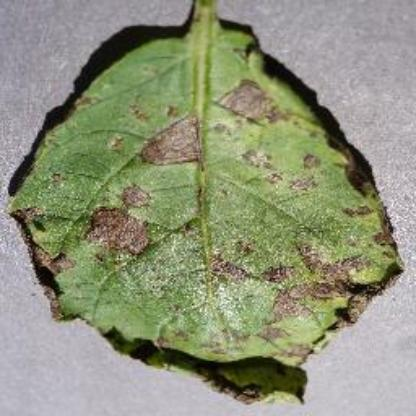Early-Blight: (13, 0, 407, 406)
